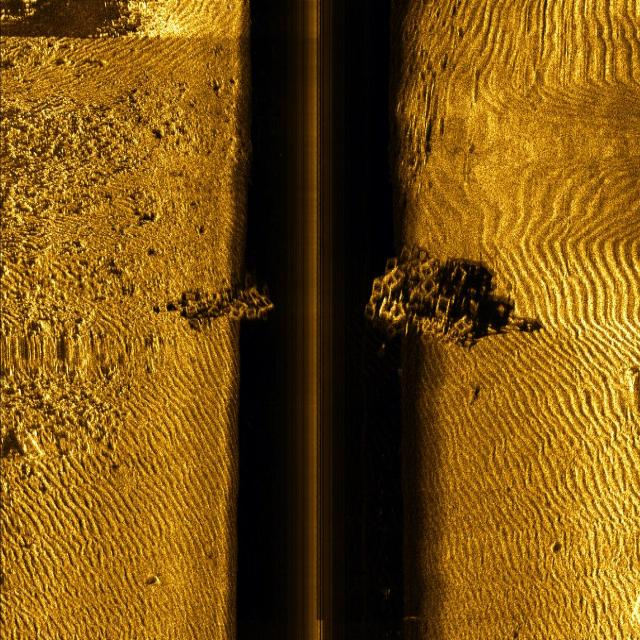artificial reef: (360, 242, 497, 356), (171, 275, 279, 338)
